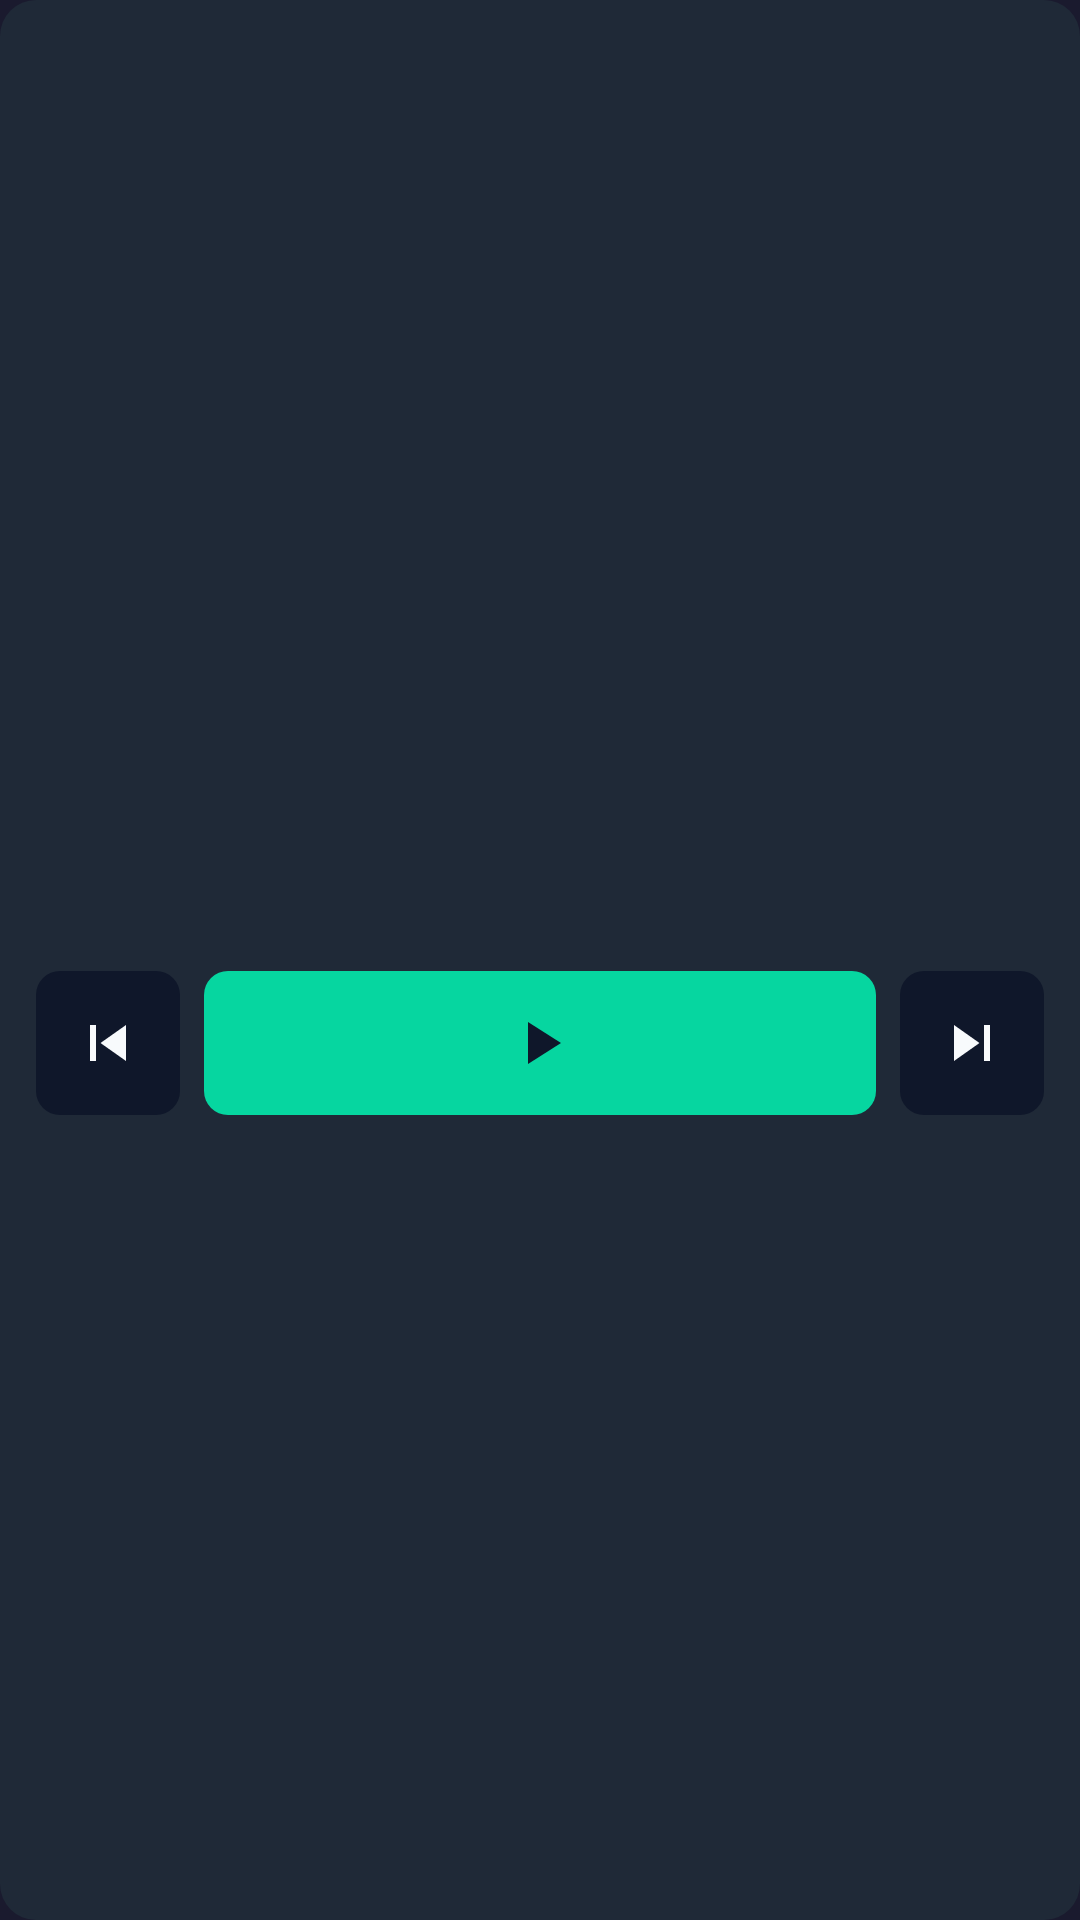

Named icons in this screenshot (1080px×1920px) and their centers, (x=x, y=y):
Next preset, step or entry: (x=972, y=1043)
Previous preset or step: (x=108, y=1043)
